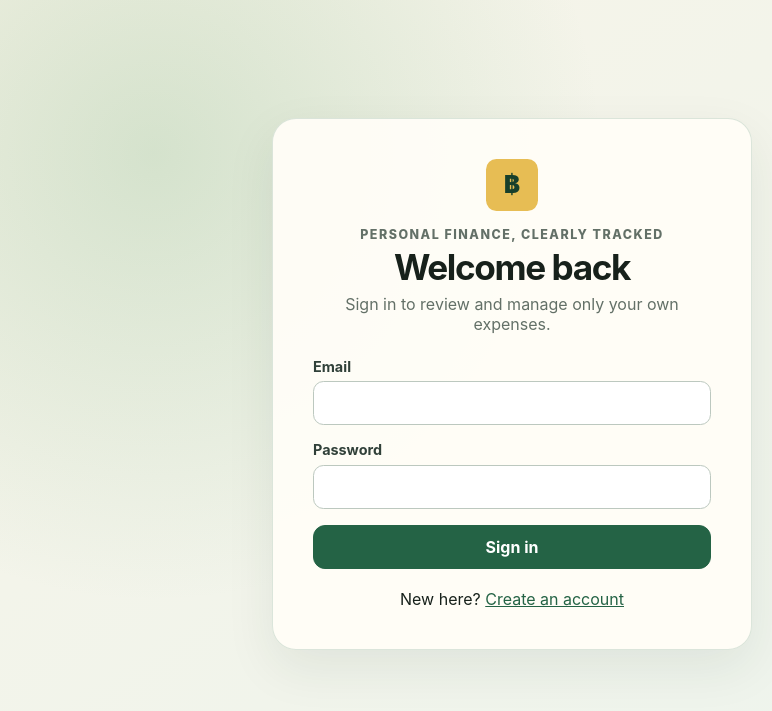
Test: LoginPage › validates input before asking the authentication boundary to log in
Click the button "Sign in": (512, 547) [313, 525, 711, 569]
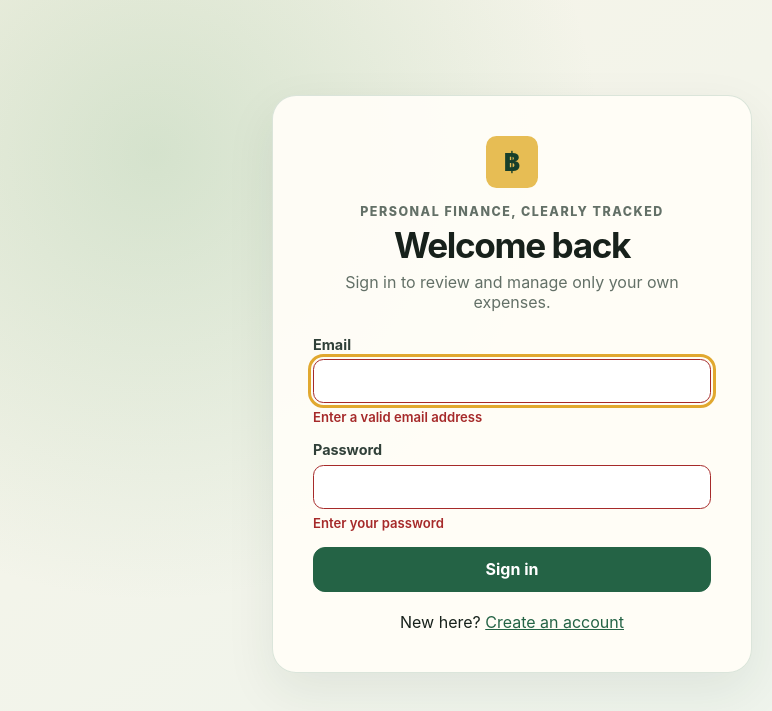
Now the text "Enter a valid email address" is shown, box [313, 409, 482, 425]
